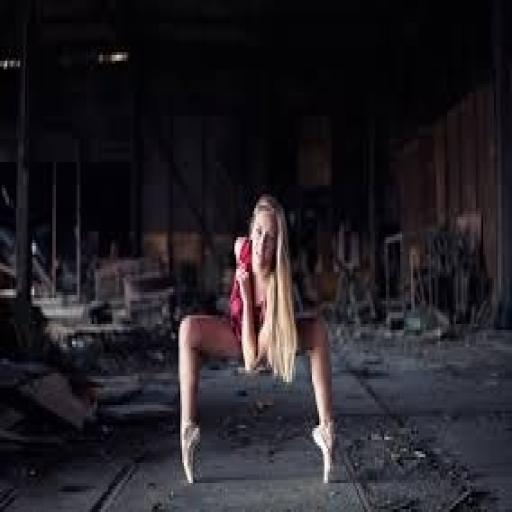dancing: (175, 191, 341, 489)
